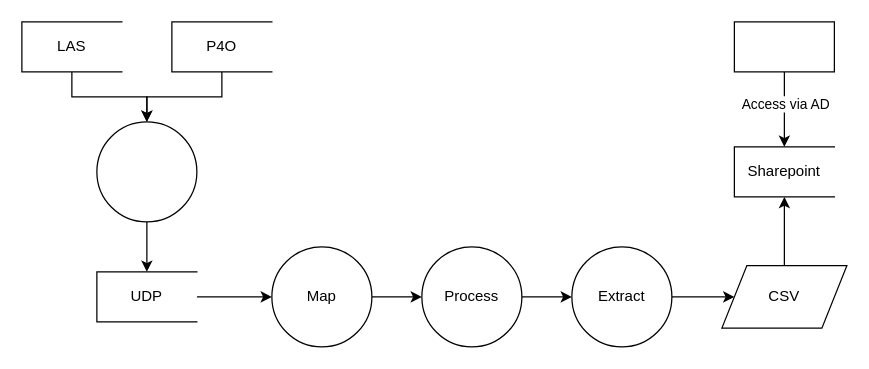
The diagram is 869 pixels wide and 369 high, and some of its shapes have lost their labels. The shapes that lost their labels are listed below. From the top down, each one's box as (x1, y1, x2, y2) in pixels, then its label:
(733, 21, 834, 72): User
(96, 121, 197, 222): Ingest
